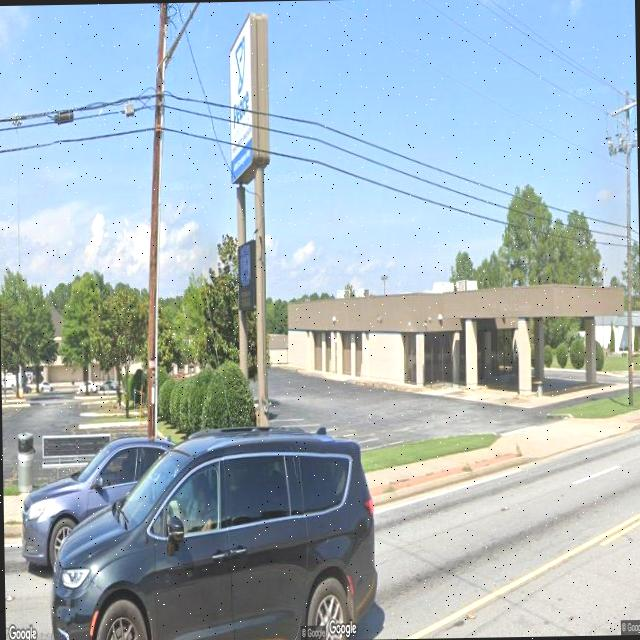seating: (40, 433, 111, 481)
trash_can: (17, 431, 34, 493)
